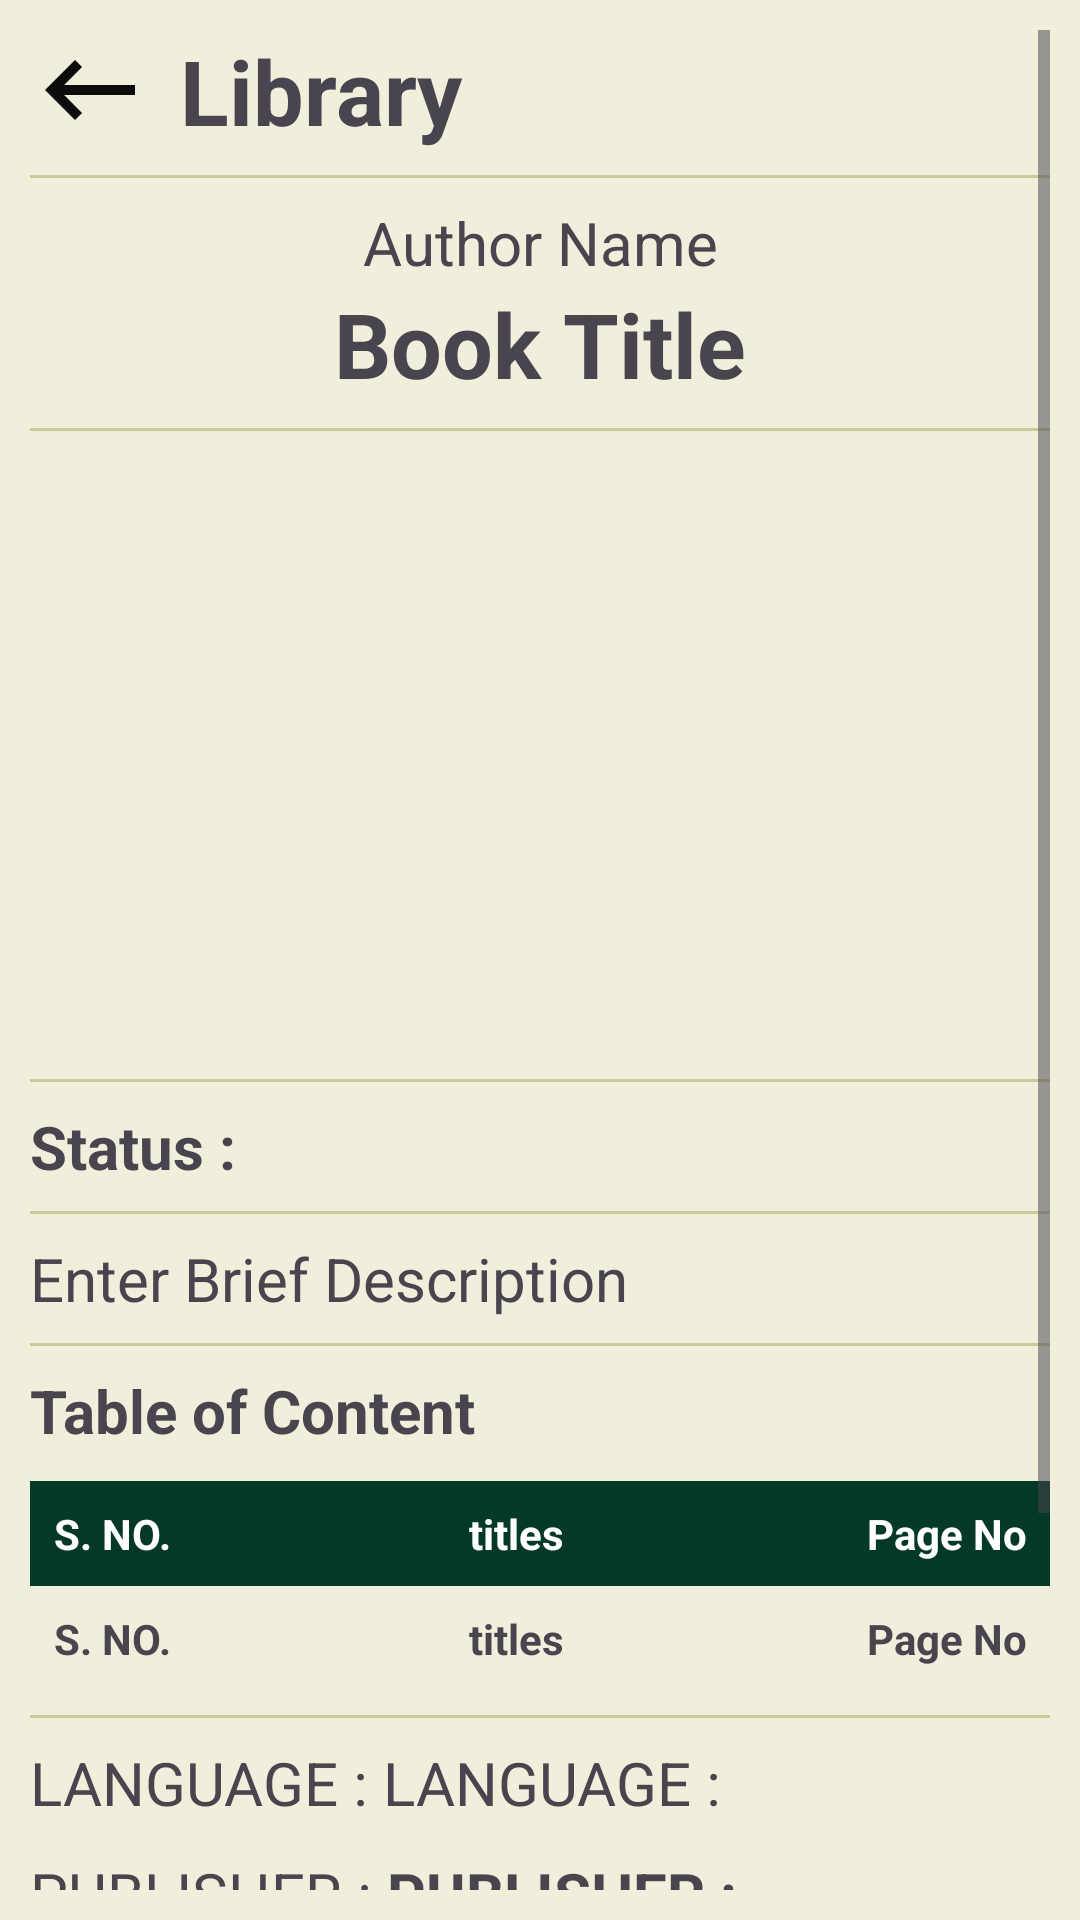

Icons on this 1080×1920 Android screen, each with the point to tap as (x=x, y=y):
keyboard backspace: (x=90, y=90)
